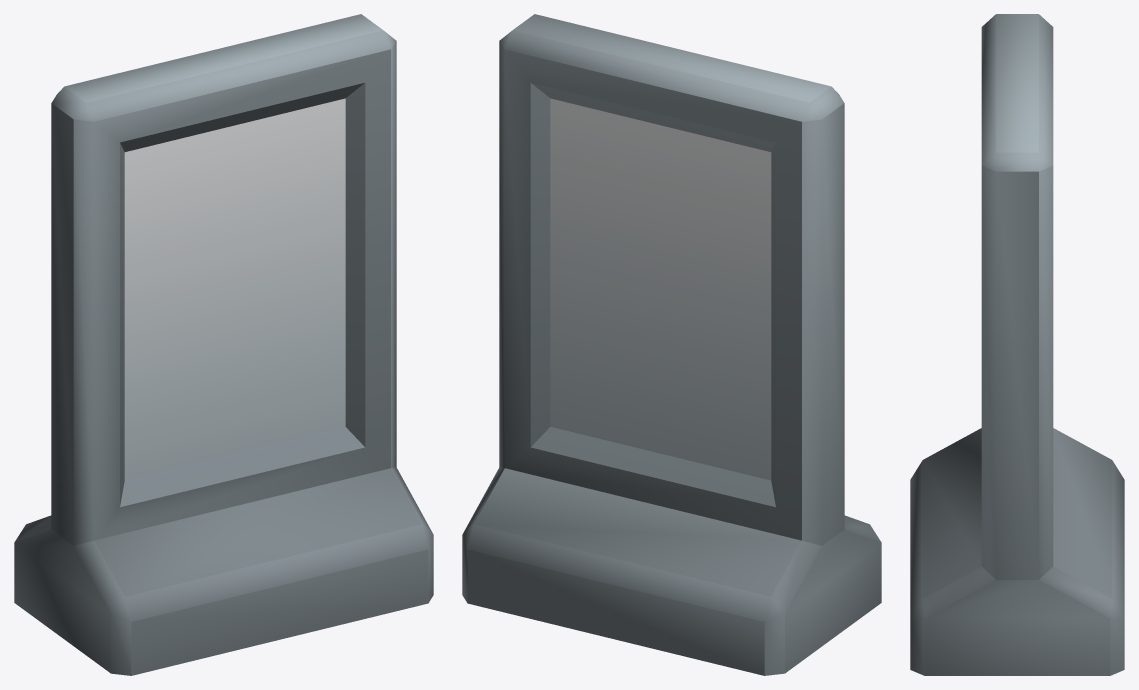
The model's file is kk_menu.glb.
3 renders of one model, left to right at view 1: azimuth 30°, elevation 25°; view 2: azimuth 150°, elevation 25°; view 3: azimuth 270°, elevation 25°, orthographic. The views are drawn at different scales.
Visible parts, largest first — view 1: menu; view 2: menu; view 3: menu.
Part boxes in pixels (bbox=[...]): menu: bbox=[14, 14, 433, 675]; menu: bbox=[462, 14, 881, 675]; menu: bbox=[910, 14, 1124, 675].
Size of the model in its own units: 0.125 by 0.2 by 0.075.
Materials: 1 (1 with a texture image).
